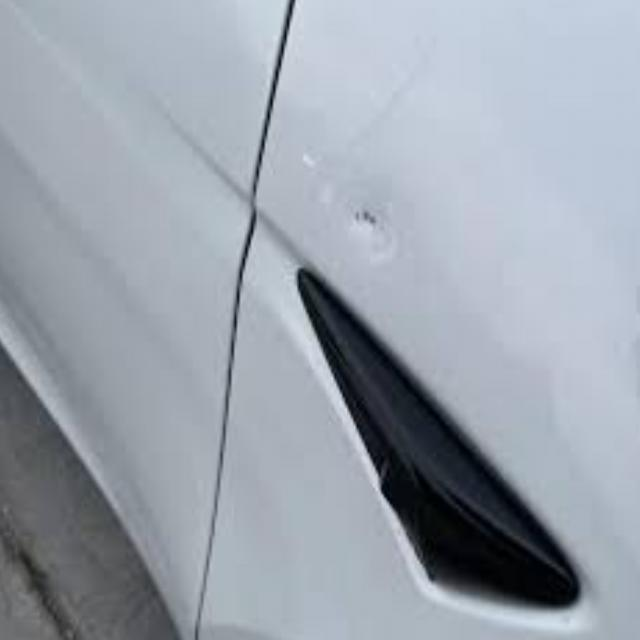dents: (330, 195, 412, 271)
